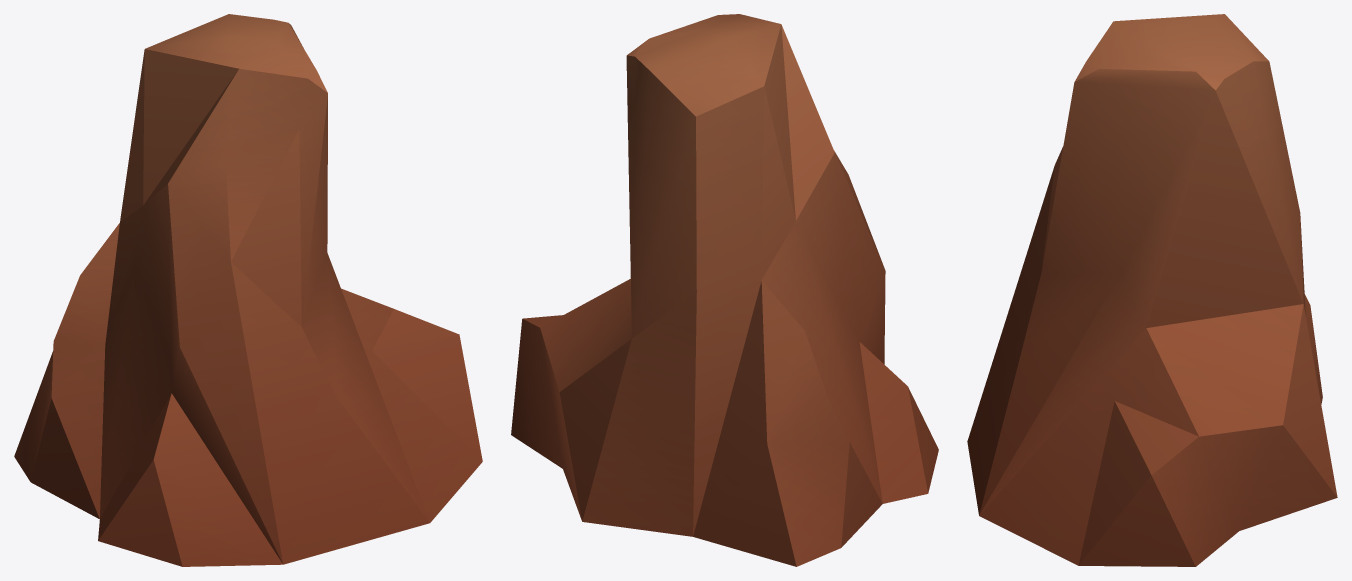
File: Rock_001.fbx
3 renders of one model, left to right at view 1: azimuth 30°, elevation 25°; view 2: azimuth 150°, elevation 25°; view 3: azimuth 270°, elevation 25°, orthographic.
Parts seen in each view (by area): view 1: ROCK-BIG; view 2: ROCK-BIG; view 3: ROCK-BIG.
Boxes of the visible parts, bbox=[...] form: ROCK-BIG: bbox=[14, 14, 482, 566]; ROCK-BIG: bbox=[511, 14, 938, 566]; ROCK-BIG: bbox=[967, 14, 1337, 566].
Bounding box in the file's own units: 256 × 280 × 215.
